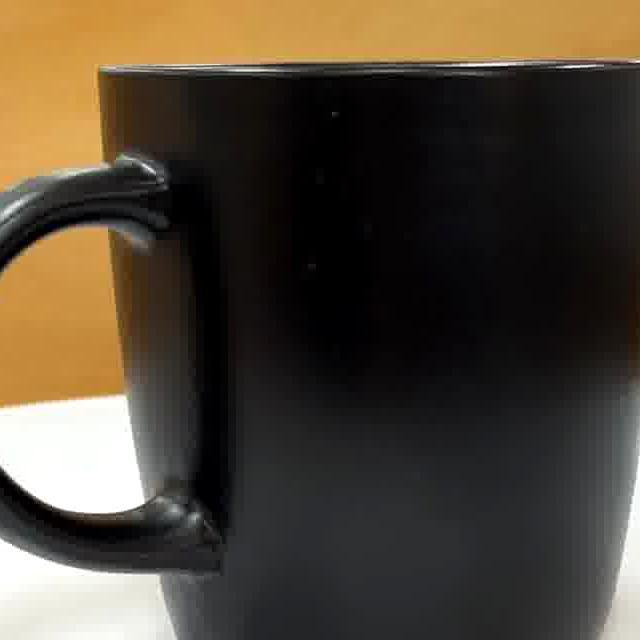cup: (0, 64, 640, 640)
